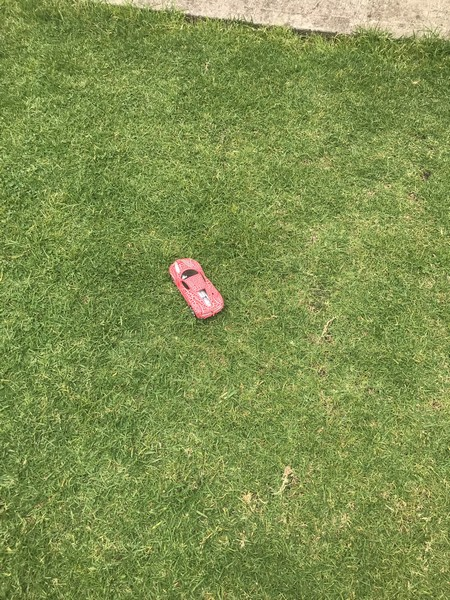RC: (167, 255, 225, 322)
